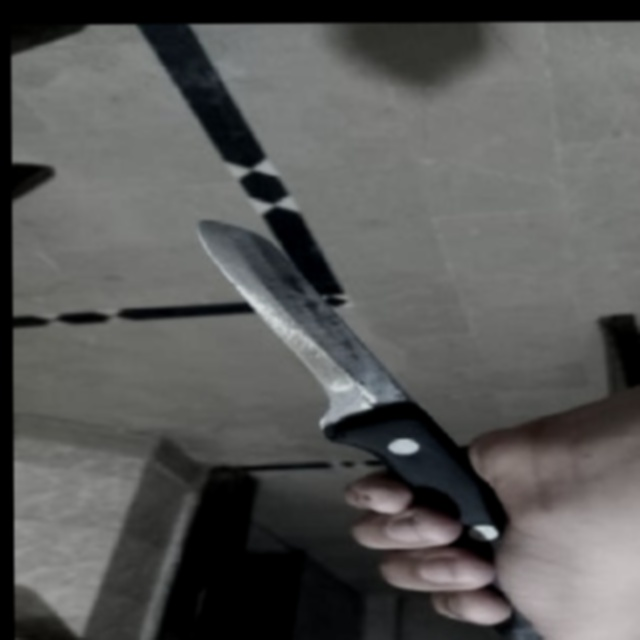Sharp-Object: (196, 218, 552, 640)
